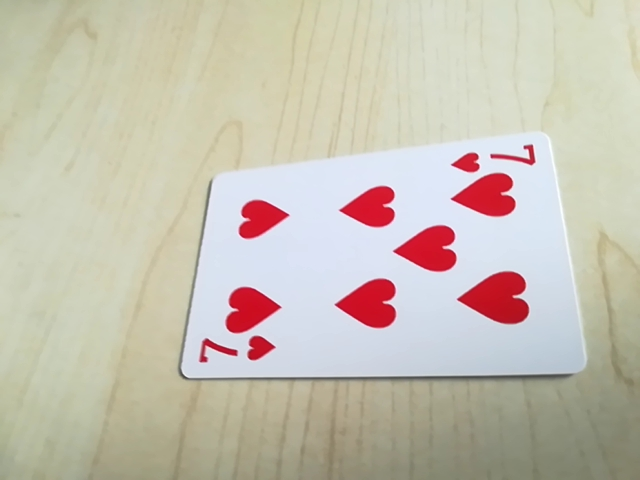hx 7: (449, 140, 545, 175), (195, 333, 280, 372)
